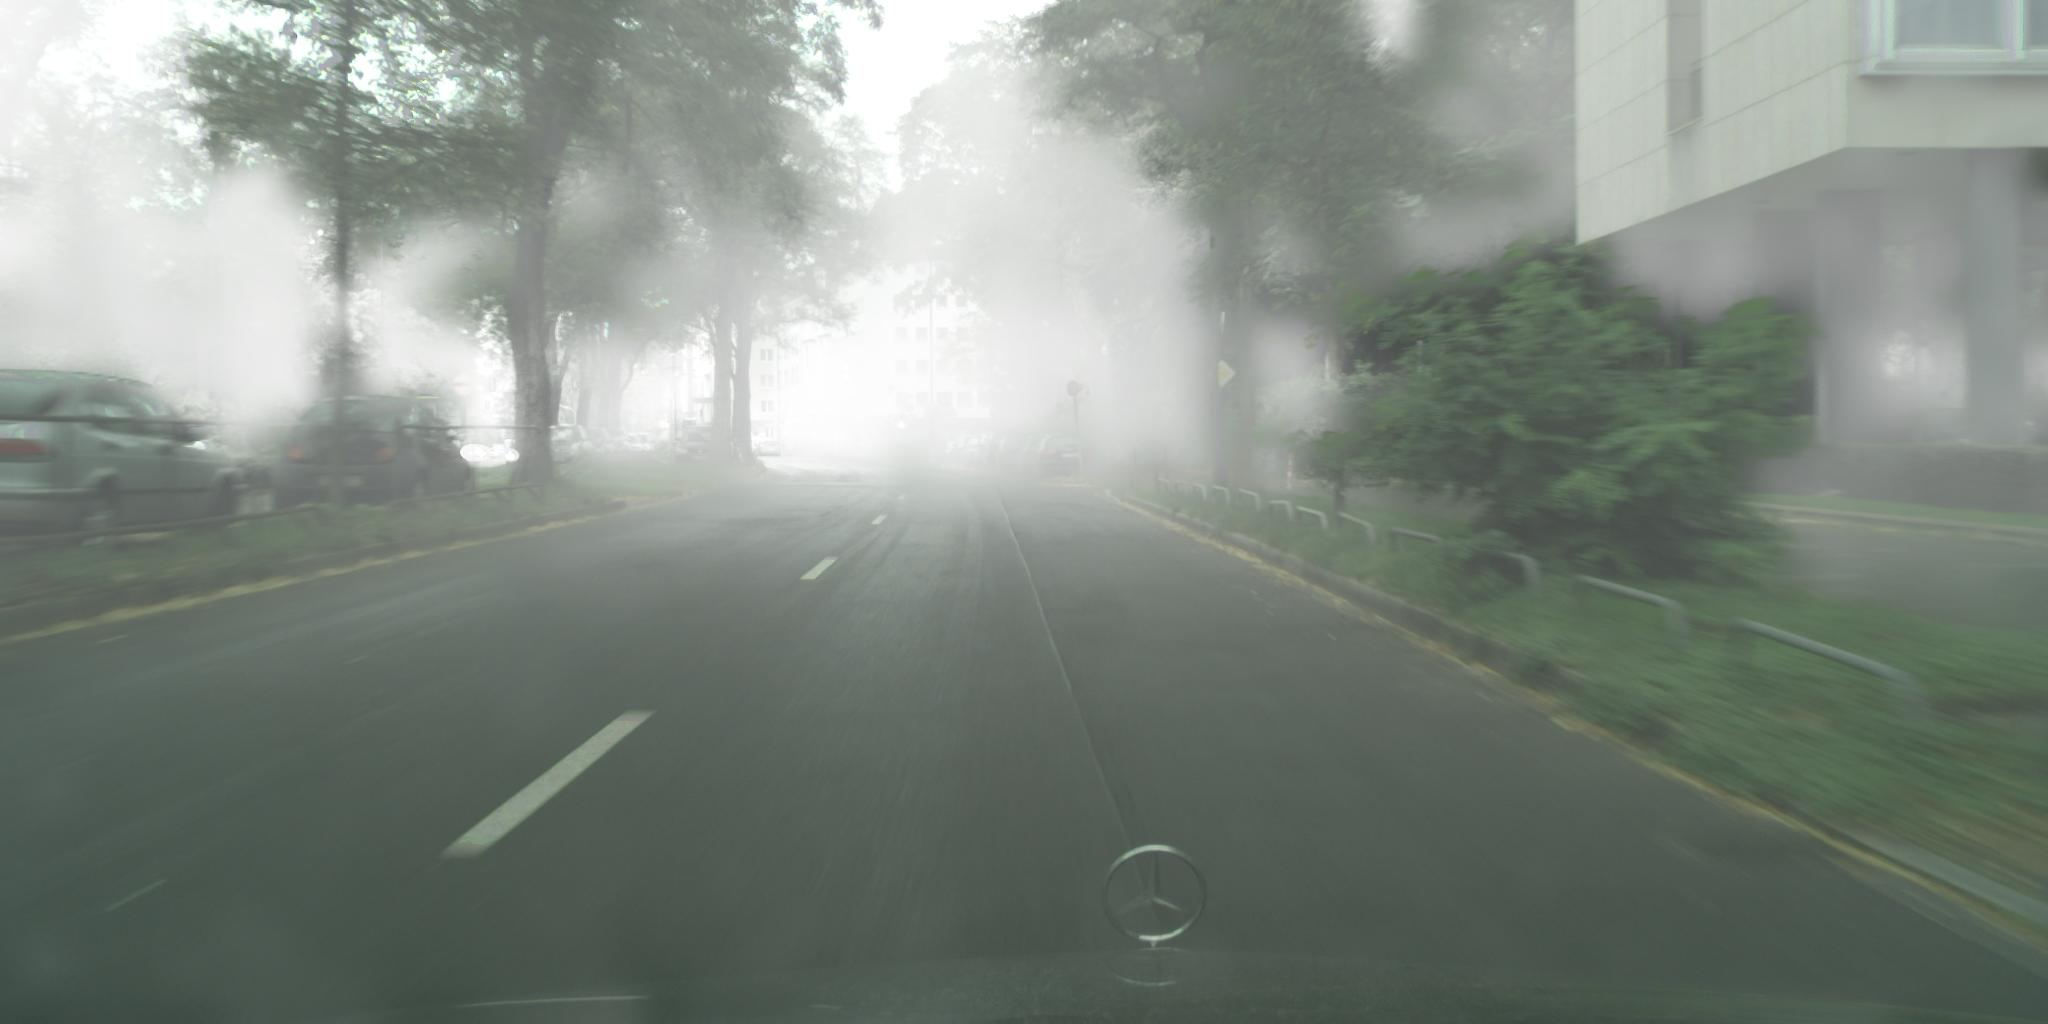car: (1, 370, 249, 552), (272, 394, 478, 521), (1031, 434, 1101, 485), (534, 424, 598, 466), (1014, 434, 1068, 479), (673, 424, 728, 468), (569, 428, 619, 474), (974, 432, 1025, 477), (940, 434, 994, 473), (995, 434, 1034, 478), (603, 428, 636, 472), (755, 439, 782, 458)
